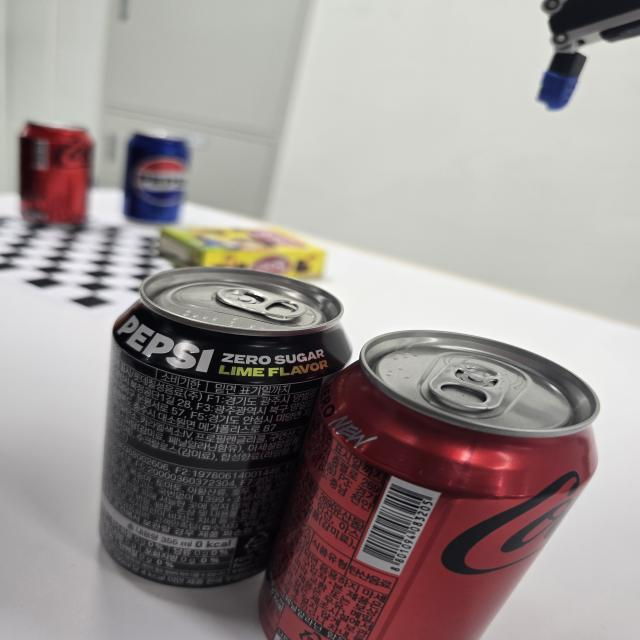can_coke_decaf: (18, 117, 101, 230)
can_coke_zero: (249, 336, 595, 640)
can_pepsi: (126, 130, 193, 225)
can_pepsi_zero: (91, 274, 355, 589)
